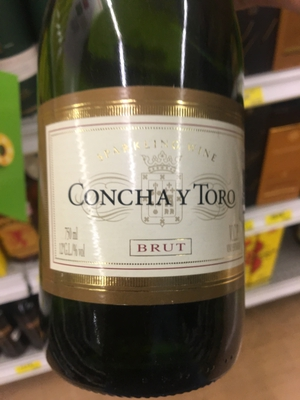brut: (36, 1, 260, 383)
